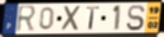0: (38, 6, 56, 32)
1: (112, 5, 122, 32)
R: (15, 4, 38, 34)
S: (125, 4, 147, 32)
T: (86, 6, 101, 31)
X: (61, 5, 83, 32)
